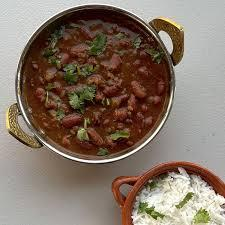rajma: (25, 8, 159, 156)
rice: (135, 173, 225, 225)
